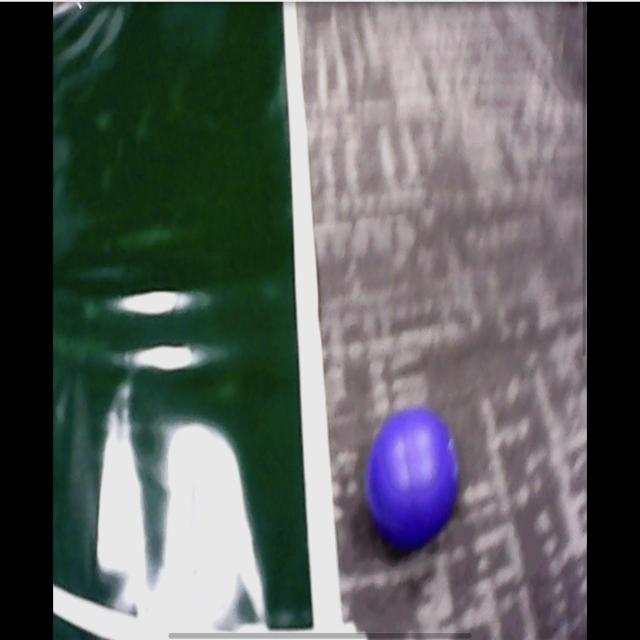ball: (368, 410, 461, 546)
